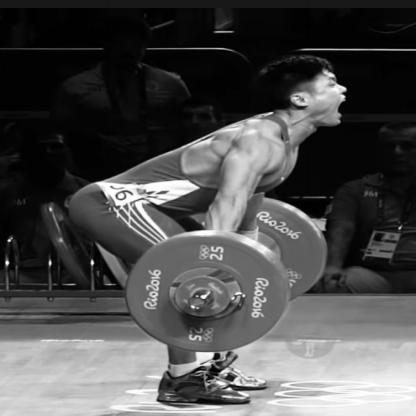Barbell: (117, 224, 297, 355)
